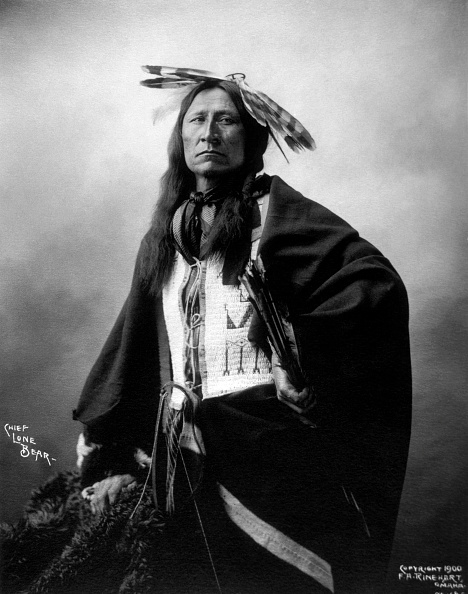em pe: (120, 59, 423, 581)
